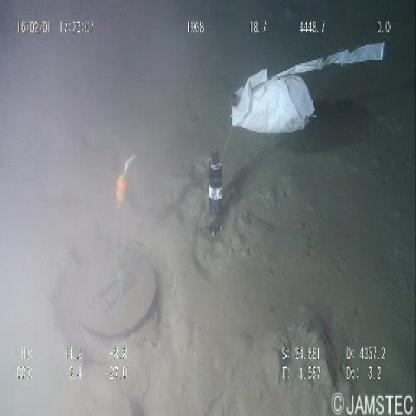Rov: (80, 140, 228, 338)
Rác: (229, 37, 388, 145)
